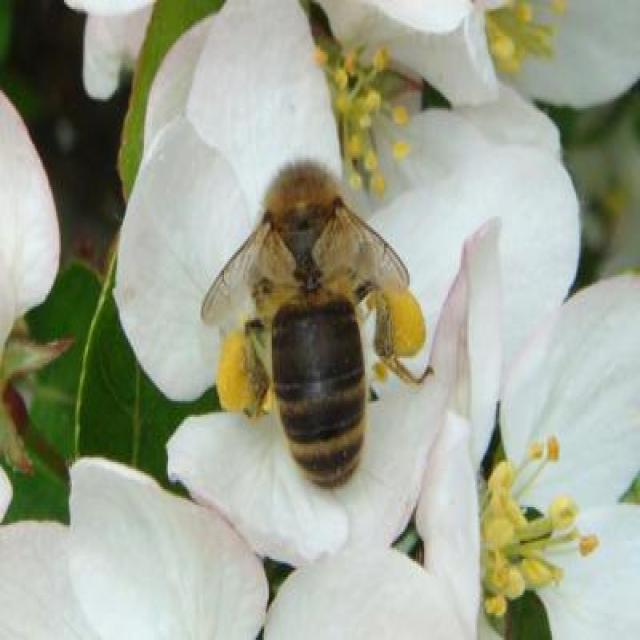body: (266, 164, 364, 486)
insect: (196, 162, 437, 493)
legs: (350, 284, 434, 390), (245, 308, 272, 363)
wings: (200, 214, 298, 328), (307, 196, 412, 297)
